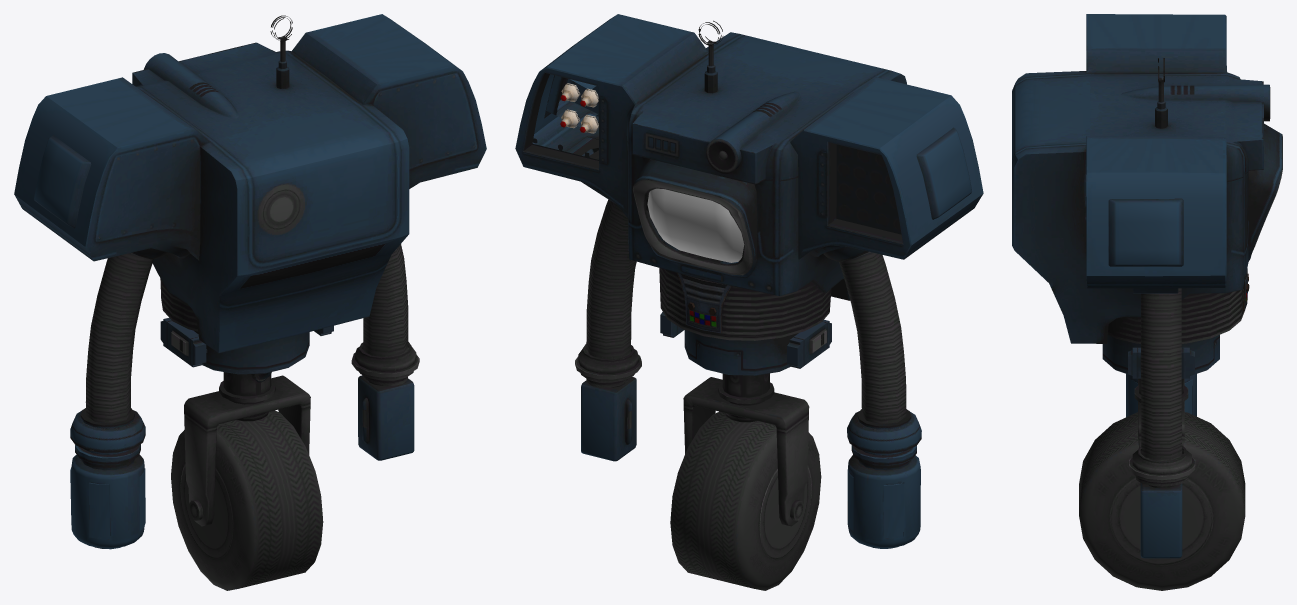
The model's file is Securitron.obj.
The picture shows the model from 3 angles, left to right: view 1: azimuth 30°, elevation 25°; view 2: azimuth 150°, elevation 25°; view 3: azimuth 270°, elevation 25°; orthographic projection. The views are drawn at different scales.
Visible parts, largest first — view 1: Body.887; view 2: Body.887; view 3: Body.887.
Boxes of the visible parts, <box> form: Body.887: <box>14,14,486,590</box>; Body.887: <box>515,14,983,590</box>; Body.887: <box>1012,14,1282,590</box>.
Size of the model in its own units: 145 by 187 by 86.
